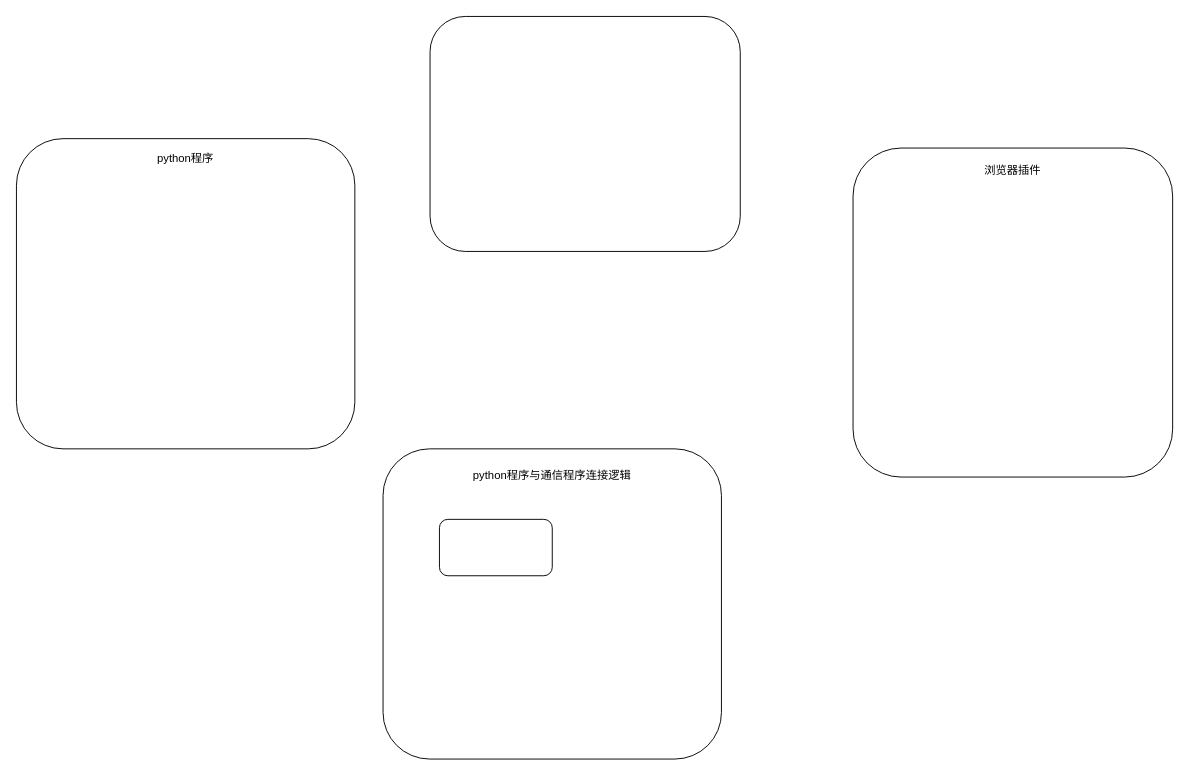
Some shapes in this 1189 by 776 pixel diagram are drawn without their labels. The centre of each missing label's shape, as x and y in pixels:
chrome native host: [584,133]
socket连接: [495,547]
